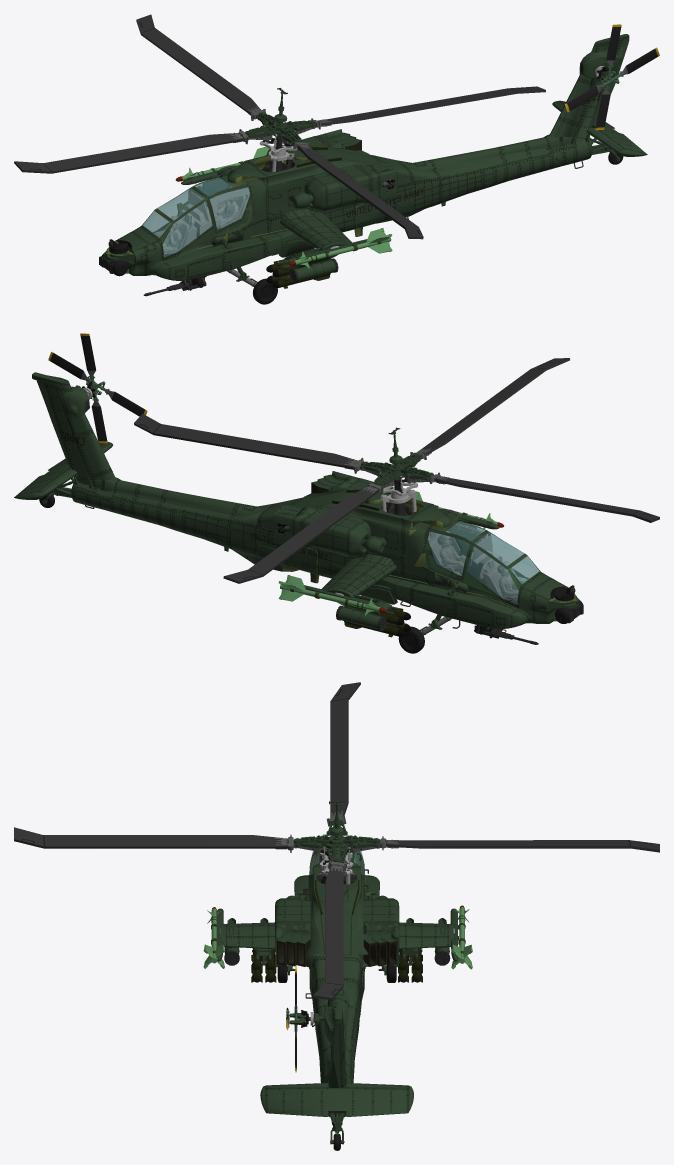
3 renders of one model, top to bottom at view 1: azimuth 30°, elevation 25°; view 2: azimuth 150°, elevation 25°; view 3: azimuth 270°, elevation 25°, orthographic. The views are drawn at different scales.
Visible parts, largest first — view 1: ah2-FACES, Object01-FACES (×2), ah30b-FACES, ah623-FACES, ah622-FACES, ah18b-FACES, ah05-FACES (×2), ah621-FACES, ah1-FACES, ah624-FACES, ah5L-FACES, ah63-FACES (+10 smaller); view 2: ah1-FACES, Object01-FACES (×2), ah05-FACES (×3), ah30b01-FACES, ah621-FACES, ah622-FACES, ah18b02-FACES, ah623-FACES, ah624-FACES, ah2-FACES, ah5L01-FACES, ah63-FACES (+10 smaller); view 3: ah1-FACES, ah3-FACES, ah624-FACES, ah2-FACES, ah621-FACES, ah622-FACES, ah623-FACES, ah18b02-FACES, ah18b-FACES, ah63-FACES, ah5L01-FACES, ah5L-FACES.
Boxes of the visible parts, x1,y1,x2,y2 form: ah2-FACES: (106,35,629,275); Object01-FACES (×2): (141,175,253,257); ah30b-FACES: (153,230,300,281); ah623-FACES: (14,129,272,173); ah622-FACES: (136,14,265,124); ah18b-FACES: (306,161,397,202); ah05-FACES (×2): (143,179,252,256); ah621-FACES: (296,86,545,134); ah1-FACES: (104,34,628,262); ah624-FACES: (282,138,423,239); ah5L-FACES: (280,209,351,251); ah63-FACES: (244,112,315,145); ah1-FACES: (32,372,577,623); Object01-FACES (×2): (424,519,540,604); ah05-FACES (×3): (424,522,538,602); ah30b01-FACES: (375,576,528,629); ah621-FACES: (134,413,384,476); ah622-FACES: (223,480,394,583); ah18b02-FACES: (274,505,369,547); ah623-FACES: (404,472,659,522); ah624-FACES: (410,358,569,465); ah2-FACES: (35,372,579,610); ah5L01-FACES: (321,554,396,598); ah63-FACES: (360,453,433,486); ah1-FACES: (332,852,370,1144); ah3-FACES: (260,1083,413,1116); ah624-FACES: (14,827,325,853); ah2-FACES: (303,855,337,1144); ah621-FACES: (313,854,347,1000); ah622-FACES: (348,836,659,853); ah623-FACES: (326,682,360,826); ah18b02-FACES: (363,898,399,955); ah18b-FACES: (275,898,310,955); ah63-FACES: (293,820,380,862); ah5L01-FACES: (399,920,448,948); ah5L-FACES: (225,920,274,948).
Size of the model in its own units: 17.52 by 5.13 by 14.63.
35 materials, 25 textured.
